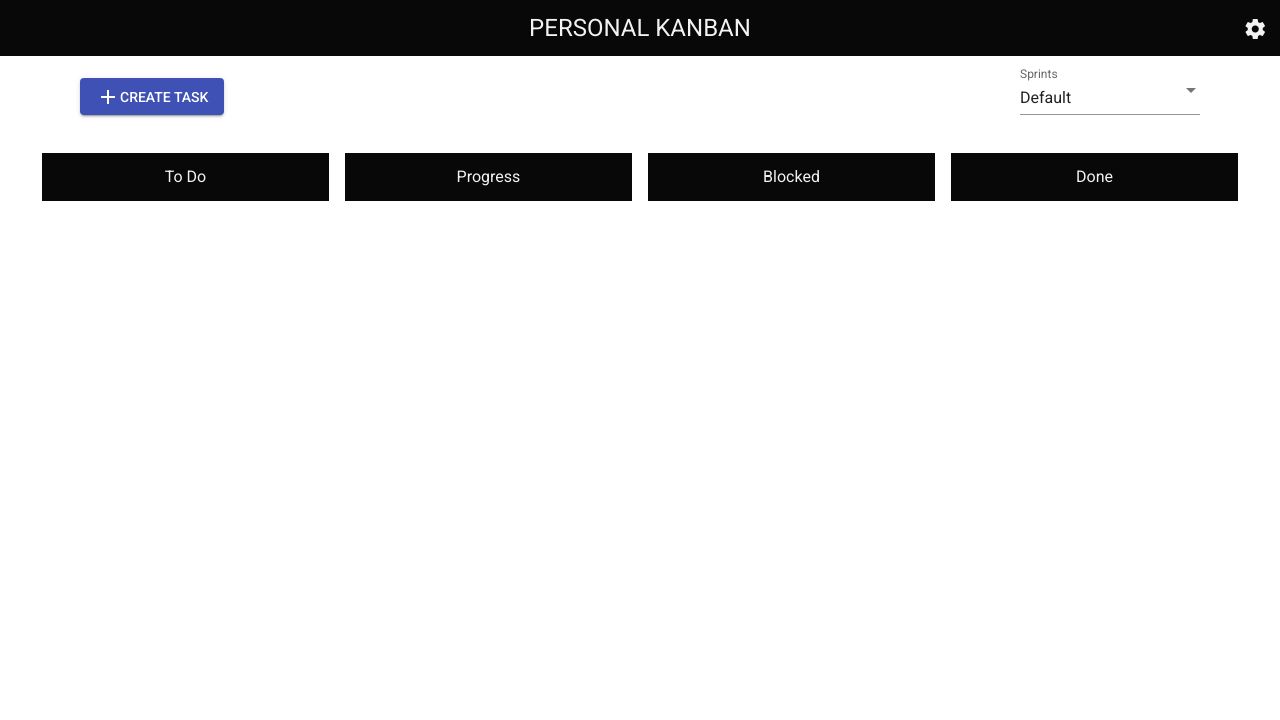
Test: kanban app › should show two options in sprints
Click the picture in the row of "PERSONAL KANBAN": point(1255, 29) [1243,17,1267,41]
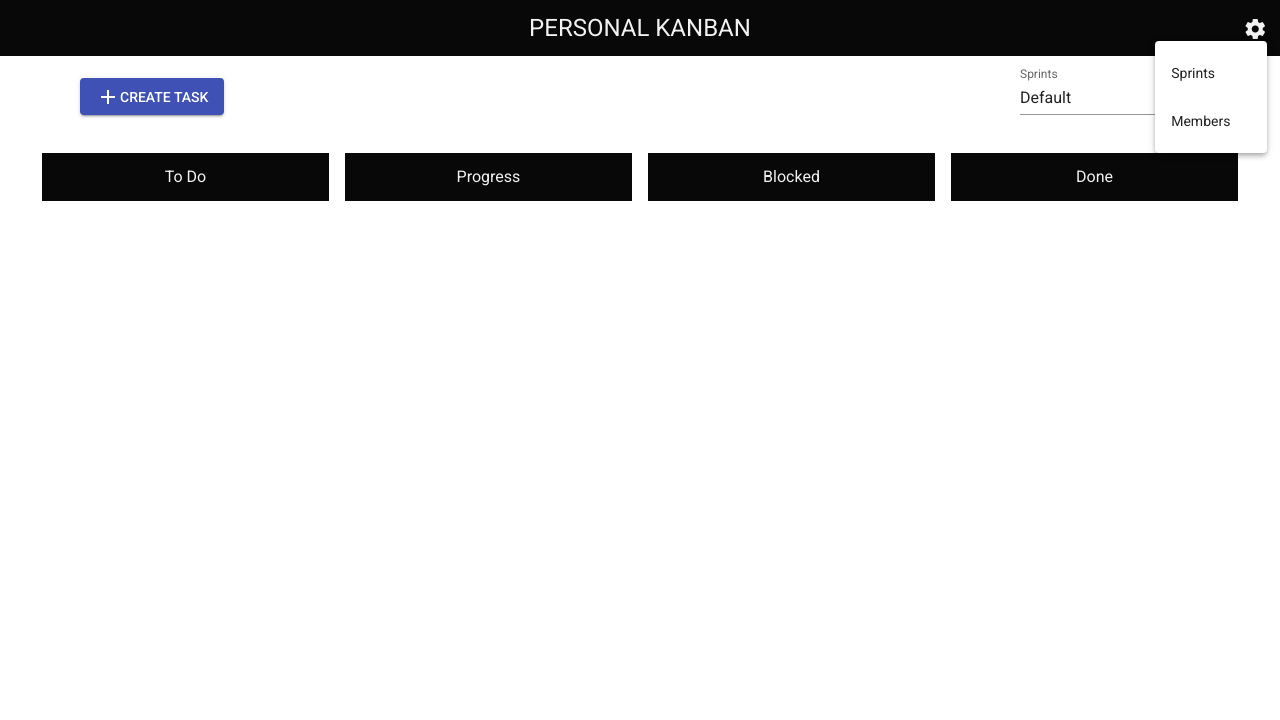
Click the menu item "Sprints": point(1211, 73) [1155,49,1267,97]
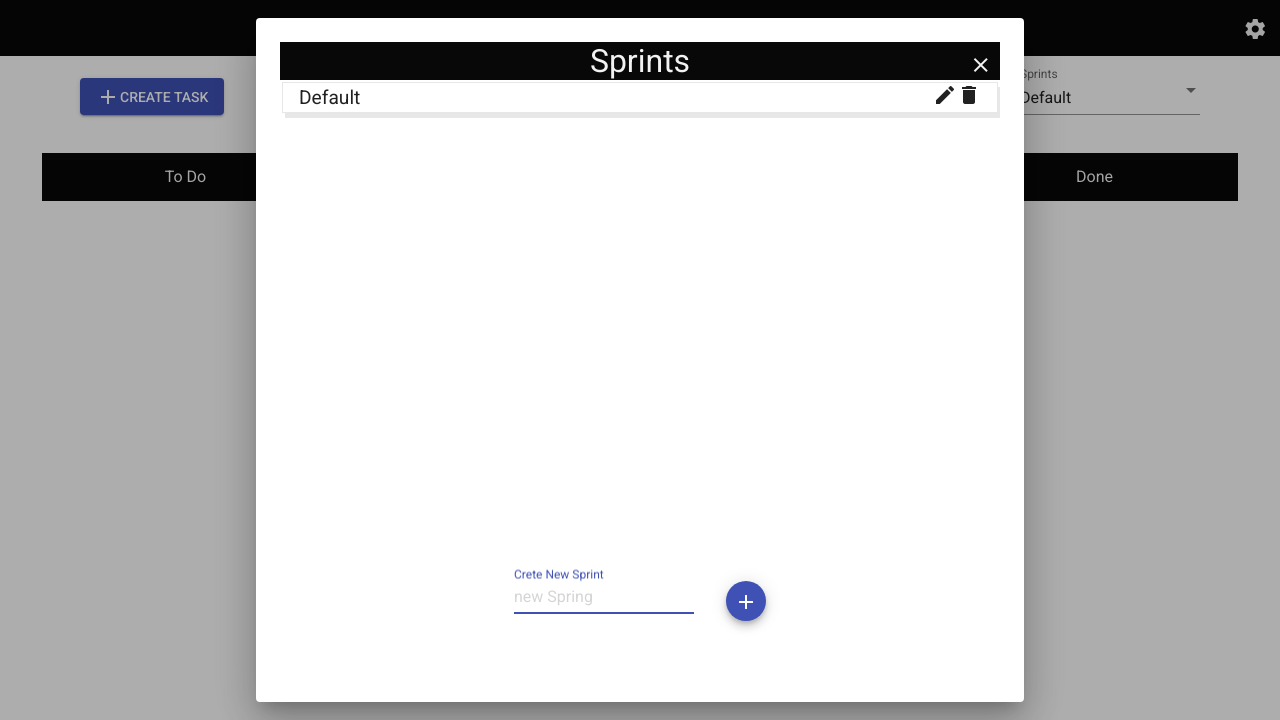
In the field labelled "Crete New Sprint": point(604, 597) [514,588,694,606], type "Sprint test"
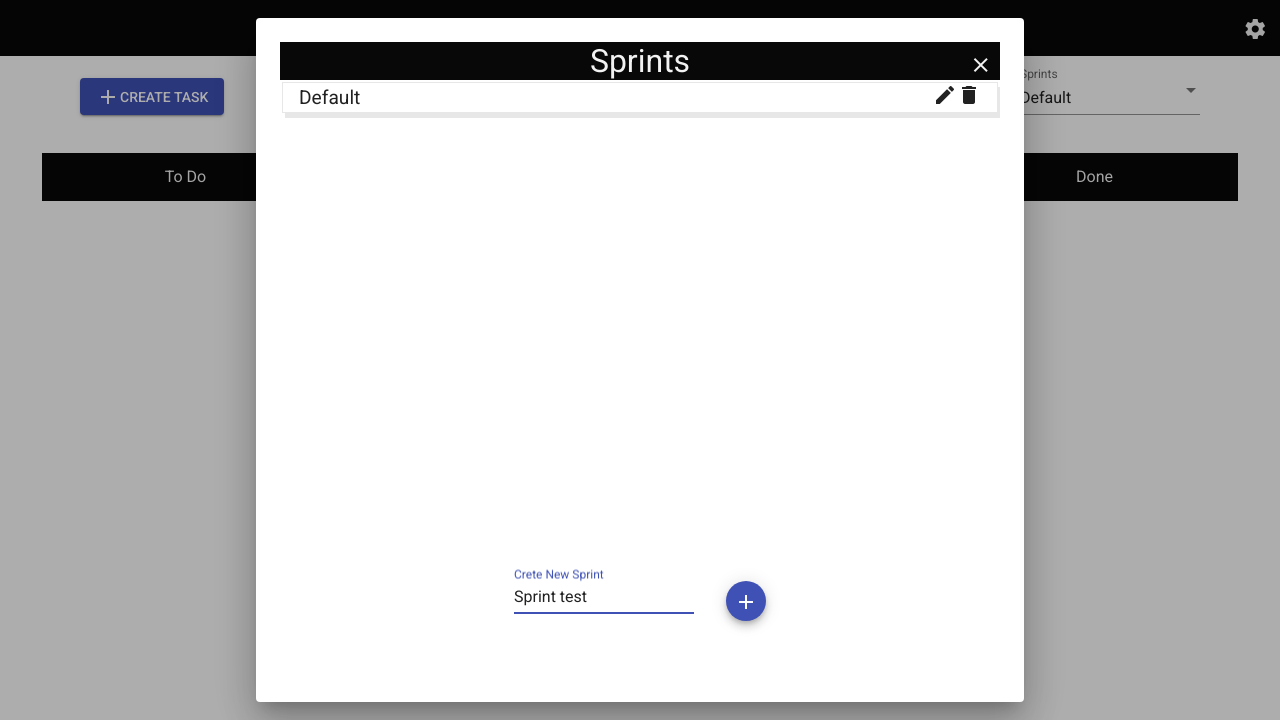
Click the button: point(746, 601) [726,581,766,621]
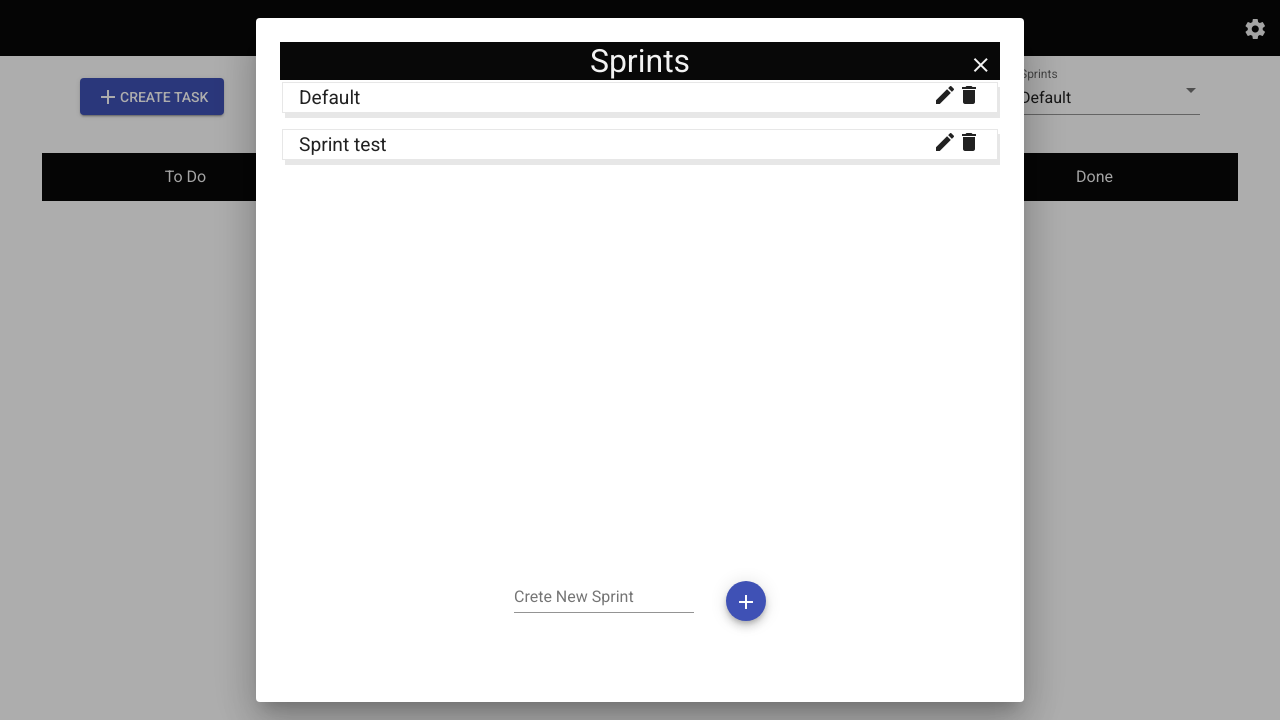
Click the 1st picture: point(981, 65) [969,53,993,77]
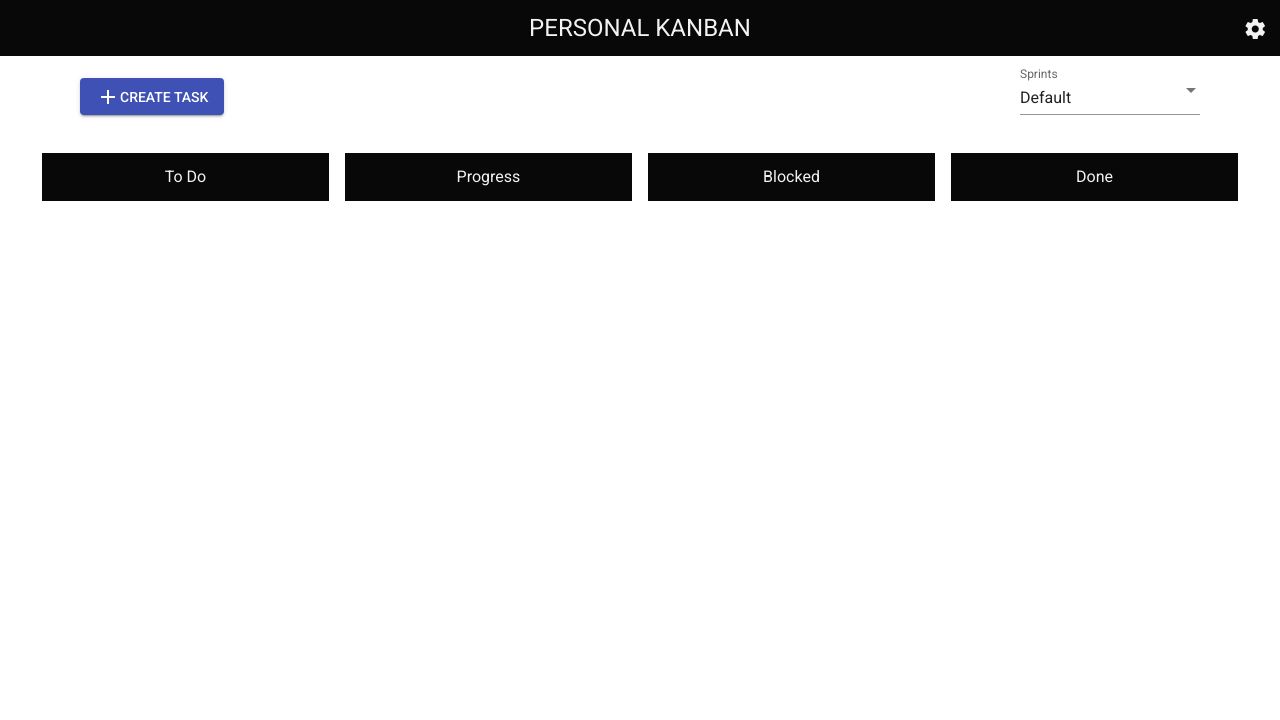
Click the element showing "Default Sprints": point(1039, 74) [1020,68,1200,115]
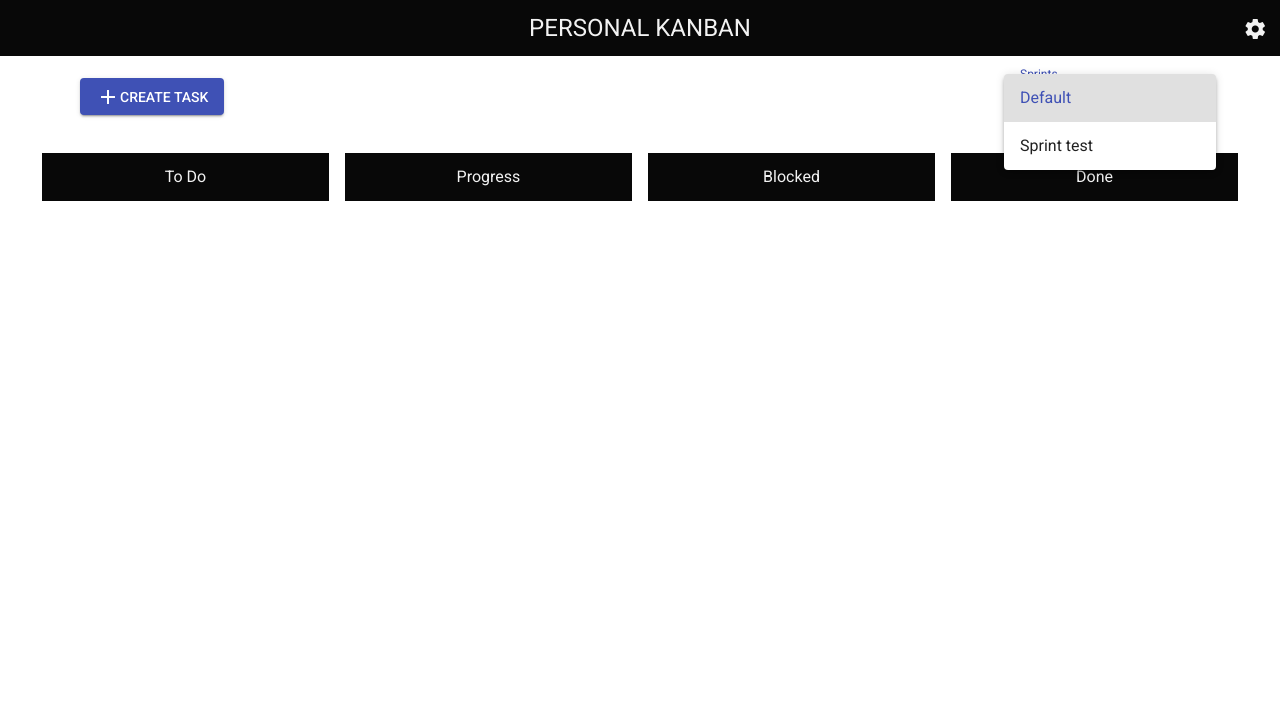
Expected: the text "Sprint test" is shown, [1020,136,1093,155]
